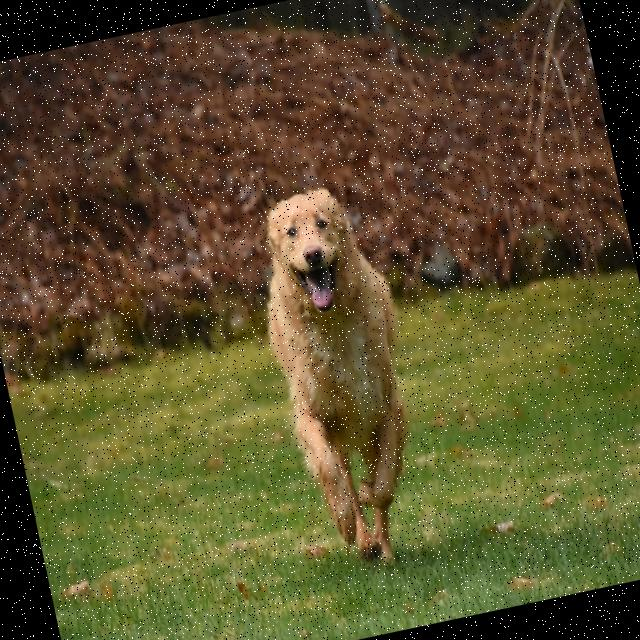Dog: (240, 179, 445, 576)
